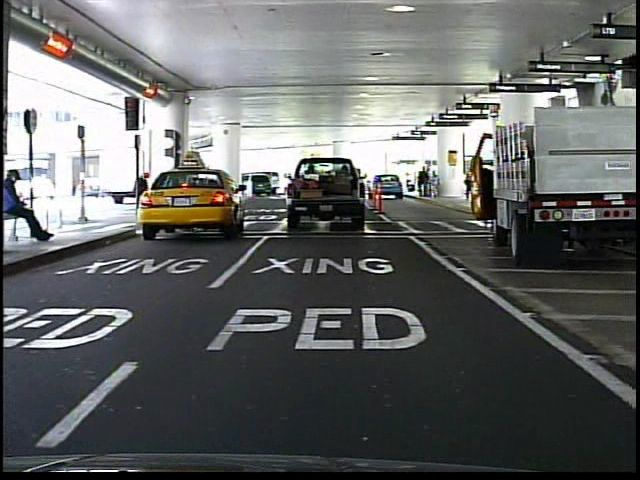person: (11, 165, 60, 245), (133, 165, 155, 220)
